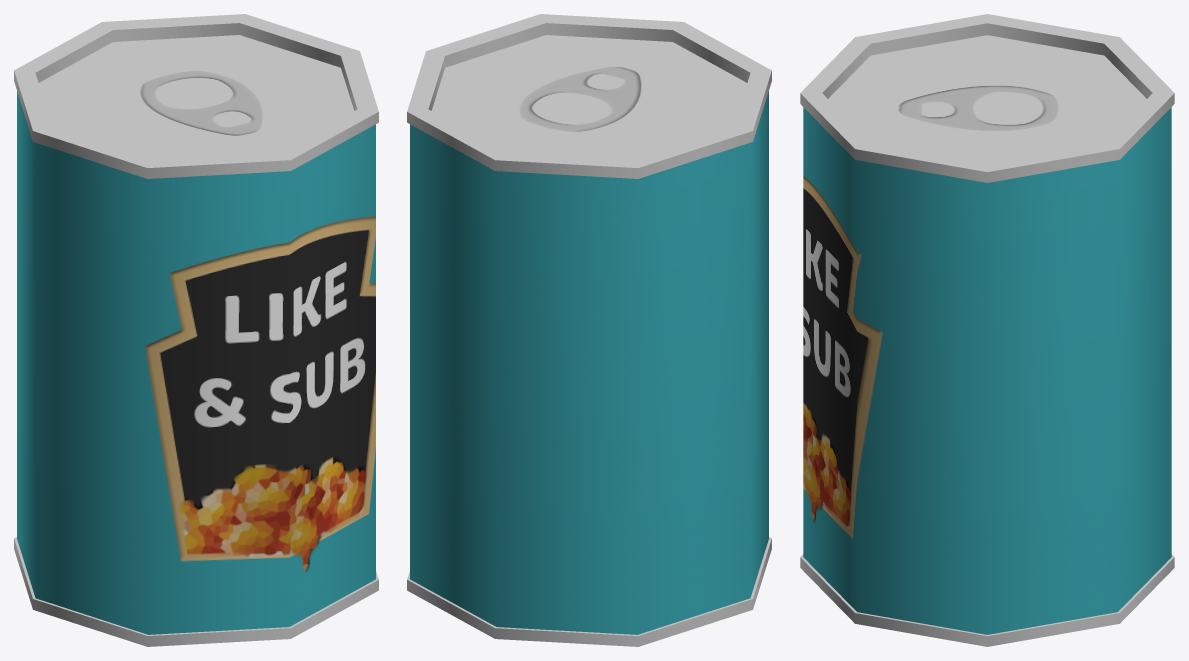
File: Can.fbx
3 renders of one model, left to right at view 1: azimuth 30°, elevation 25°; view 2: azimuth 150°, elevation 25°; view 3: azimuth 270°, elevation 25°, orthographic.
Visible parts, largest first — view 1: Cylinder; view 2: Cylinder; view 3: Cylinder.
Boxes of the visible parts, x1,y1,x2,y2 form: Cylinder: (14,14,378,646); Cylinder: (407,14,771,646); Cylinder: (800,14,1174,646).
Bounding box in the file's own units: 21.91 × 30.65 × 21.91.
